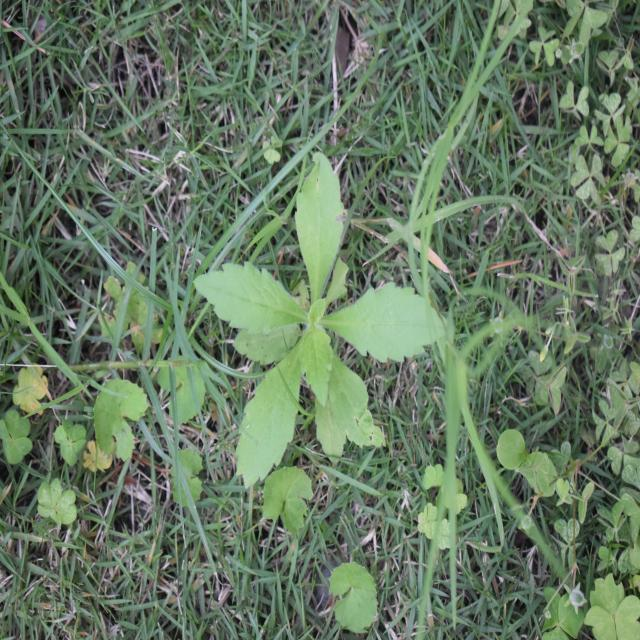horseweed: (212, 178, 442, 469)
